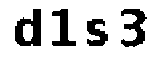1: (49, 8, 81, 54)
3: (116, 6, 151, 52)
d: (12, 4, 47, 51)
s: (83, 16, 111, 50)
